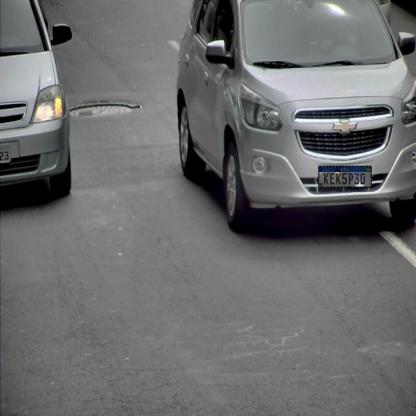PlacaM: (318, 166, 372, 188)
